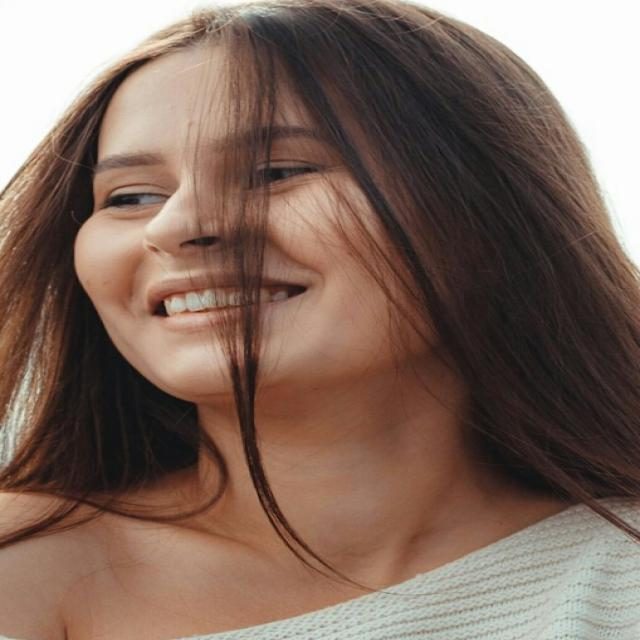left: (83, 89, 397, 342)
